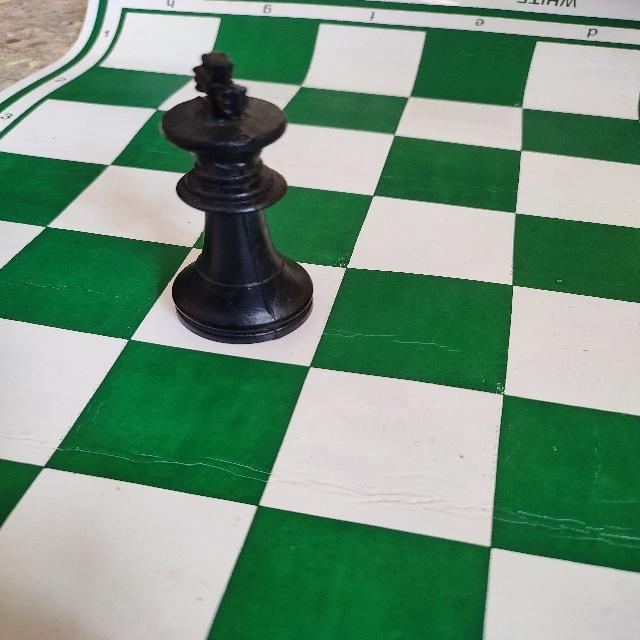King: (158, 48, 320, 346)
